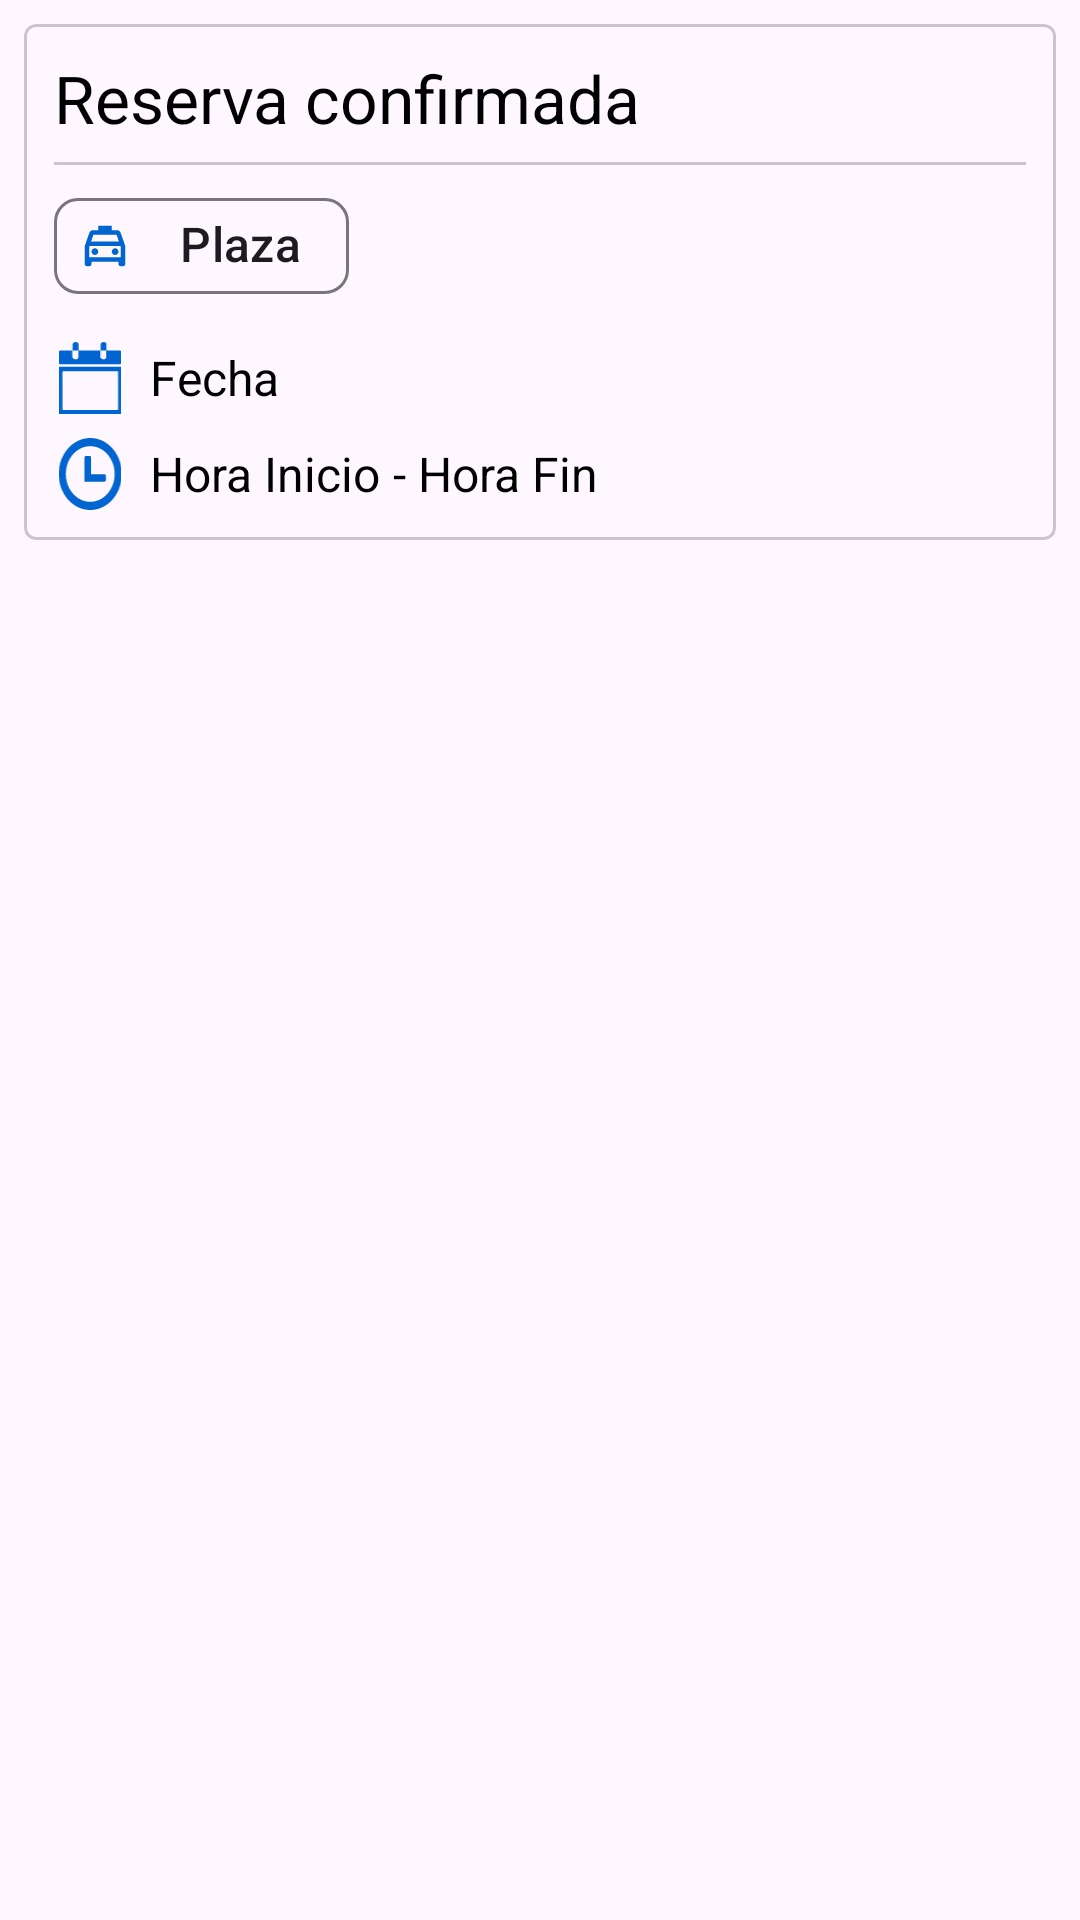

Screen size 1080w x 1920h. Icon name, then its center in pixels as [x,y]:
calendar blank: [90,378]
clock: [90,474]
